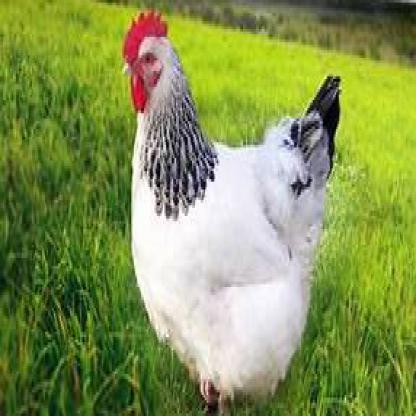chicken: (121, 5, 340, 411)
